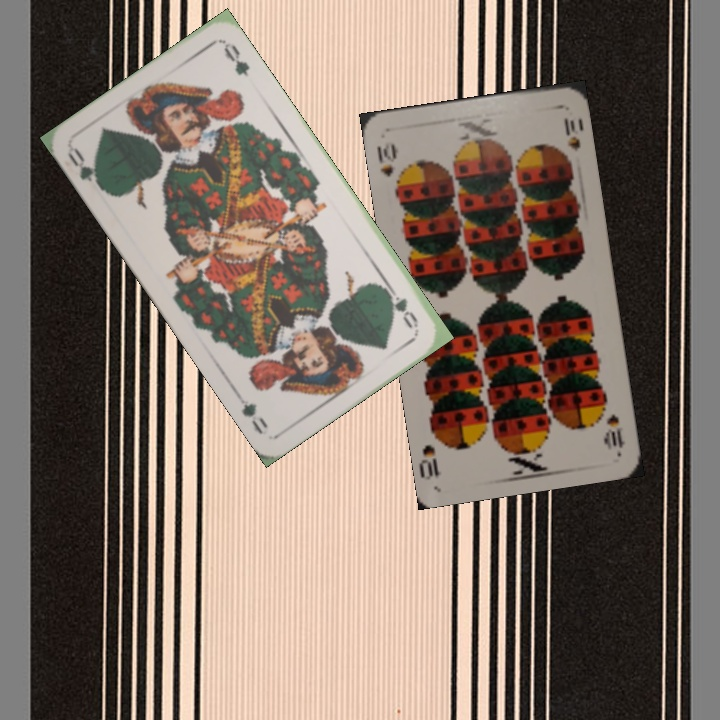GO: (63, 143, 108, 194), (378, 279, 422, 331)
S10: (372, 139, 404, 193), (602, 410, 628, 452)
